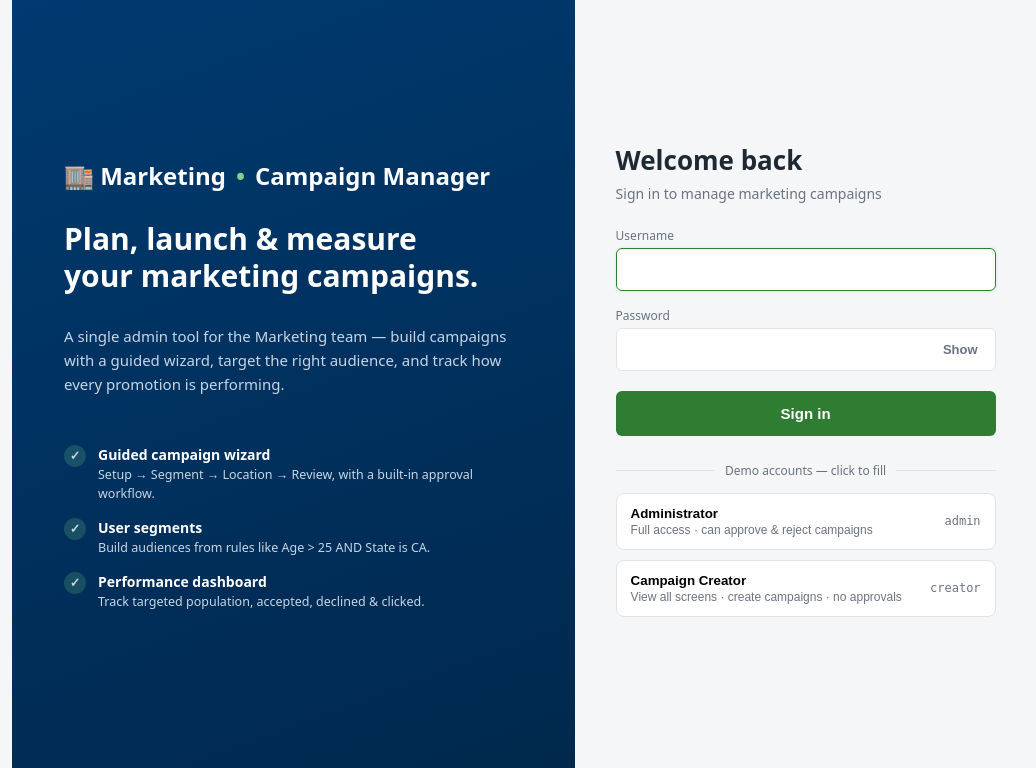
Test case: lands on the dashboard after signing in, regardless of prior route
Click the text "Campaign Creator" at x=688, y=580, box [631,572,746,588]
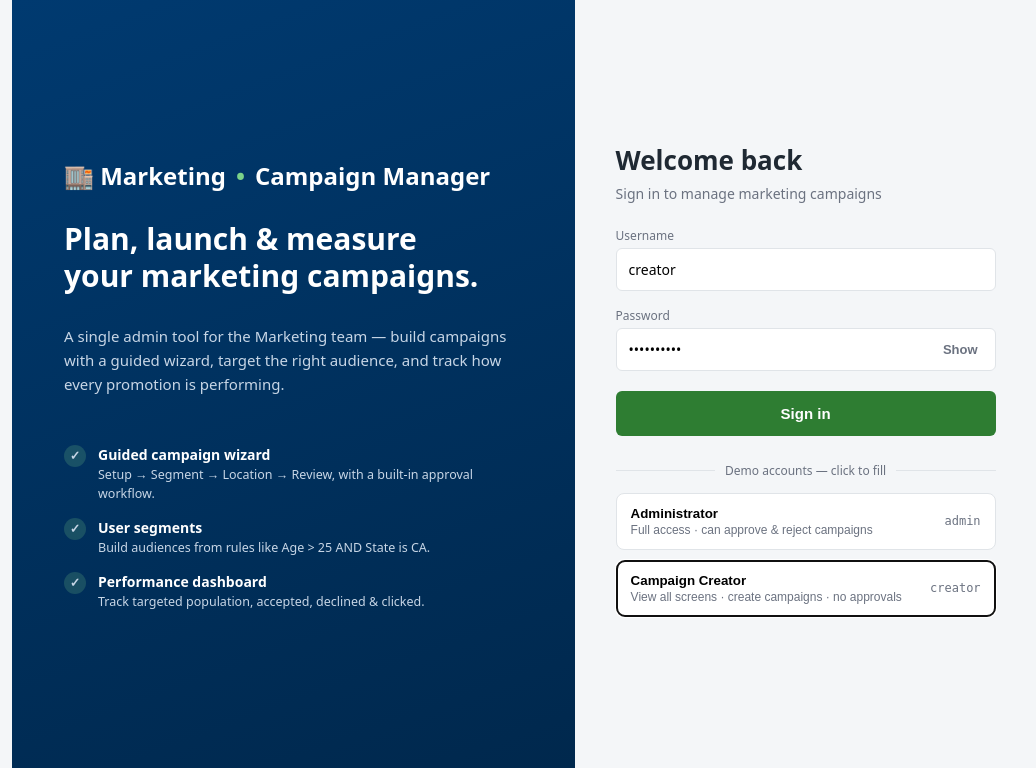
Click the button "Sign in" at x=806, y=413, box [616,390,996,436]
(page scrolled)
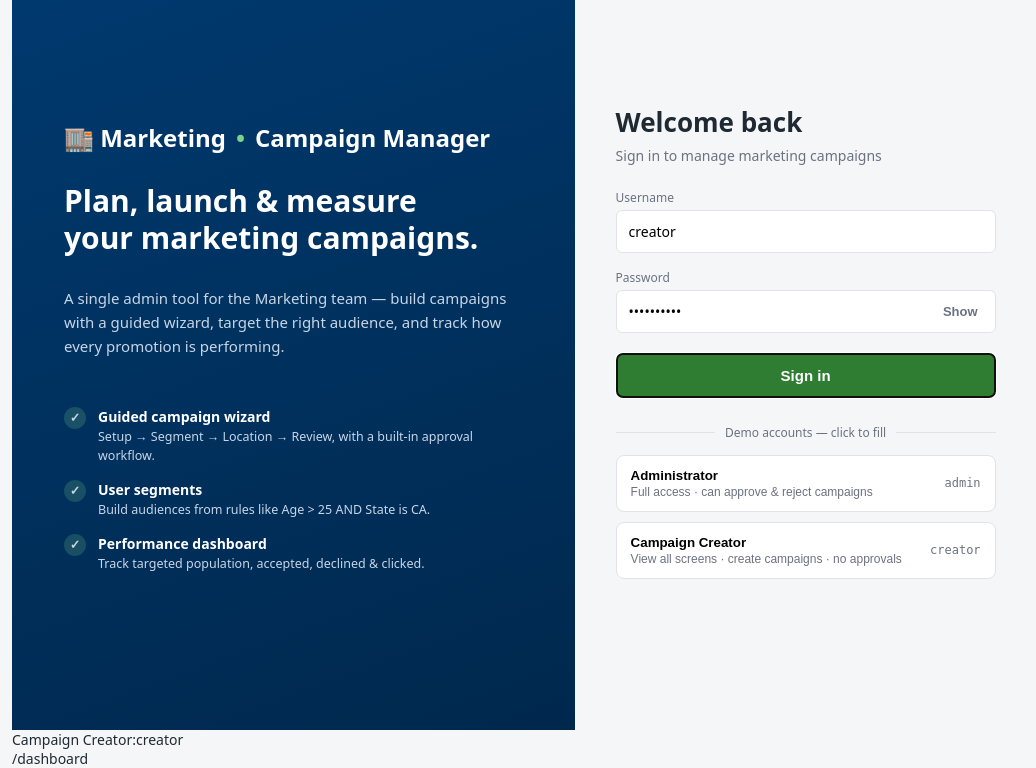
Expected: the text with test id "path" reads "/dashboard", [12,749,88,767]
